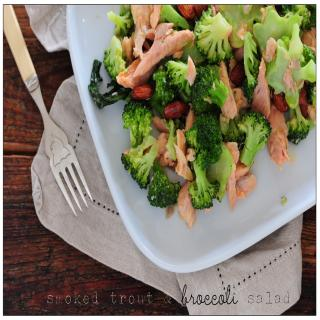Broccoli: (102, 5, 316, 212)
